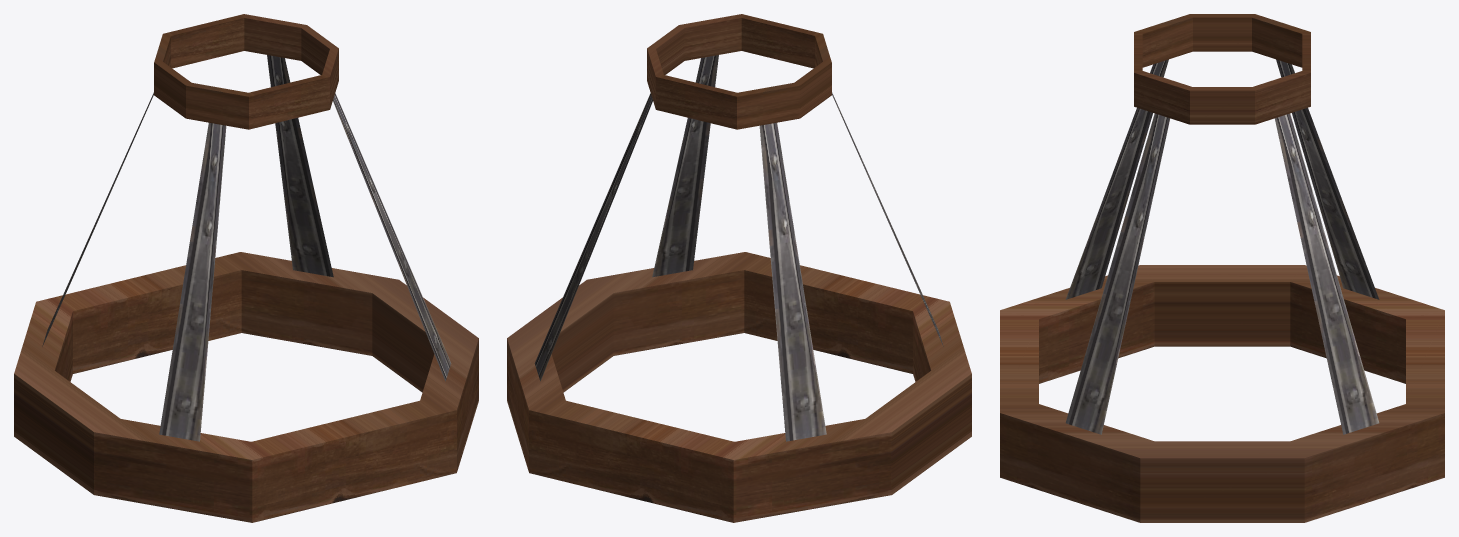
The model's file is Big_lamp_01.glb.
3 views of the same model, side by side, from view 1: azimuth 30°, elevation 25°; view 2: azimuth 150°, elevation 25°; view 3: azimuth 270°, elevation 25° (orthographic). The views are drawn at different scales.
Visible parts, largest first — view 1: Big_lamp_01; view 2: Big_lamp_01; view 3: Big_lamp_01.
Boxes of the visible parts, box(x1,y1,x2,y2) form: Big_lamp_01: box(14, 14, 478, 522); Big_lamp_01: box(507, 14, 971, 522); Big_lamp_01: box(1000, 14, 1444, 522).
Size of the model in its own units: 8.84 by 7.97 by 8.6.
Materials: 1 (1 with a texture image).
